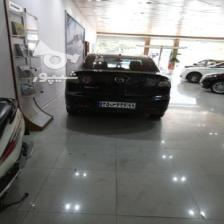plate: (99, 101, 136, 108)
